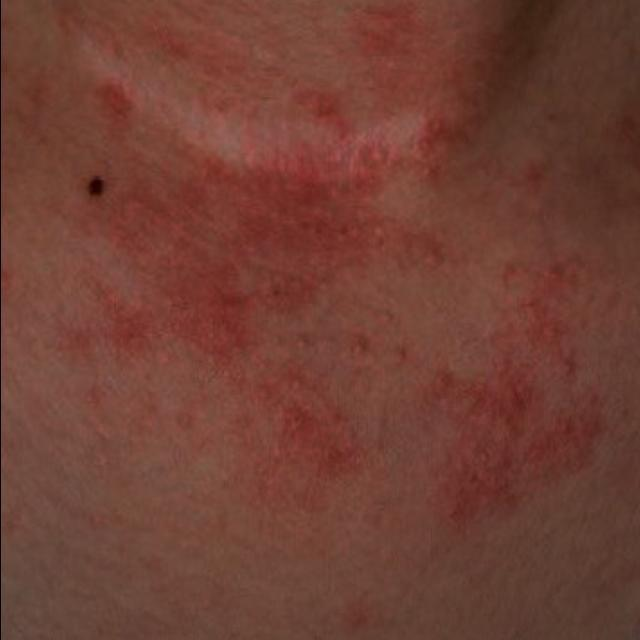AtopicDermatitis: (18, 0, 640, 562)
